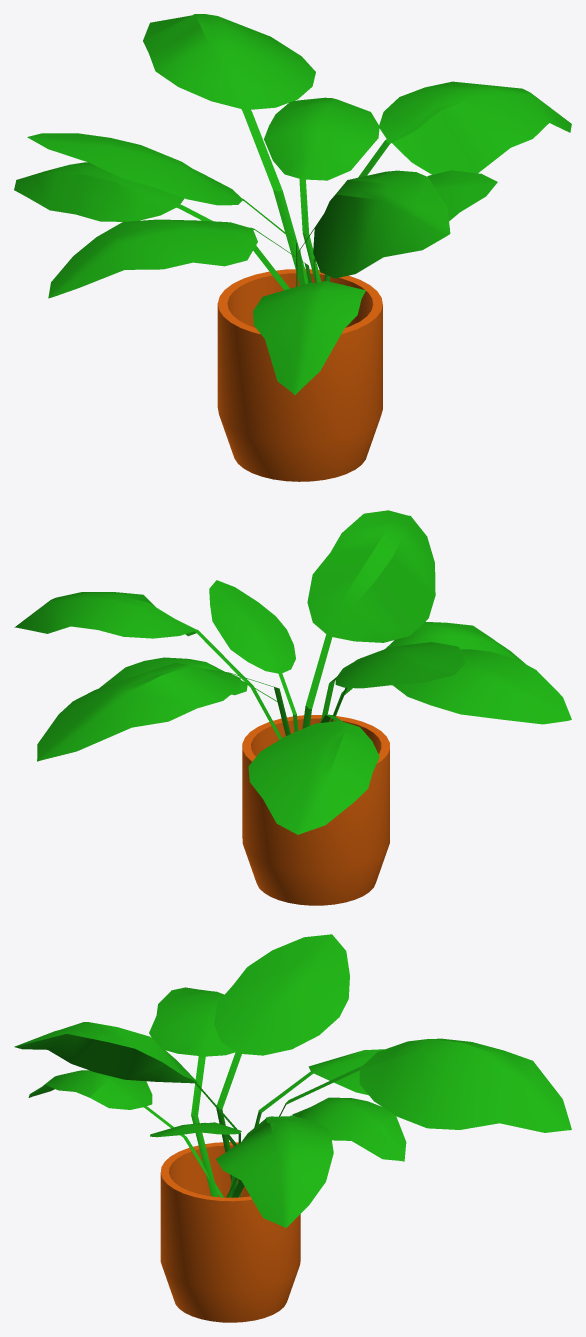
File: flower.gltf
The picture shows the model from 3 angles, top to bottom: view 1: azimuth 30°, elevation 25°; view 2: azimuth 150°, elevation 25°; view 3: azimuth 270°, elevation 25°; orthographic projection. The views are drawn at different scales.
Visible parts, largest first — view 1: Cylinder; view 2: Cylinder; view 3: Cylinder.
Boxes of the visible parts, x1,y1,x2,y2 form: Cylinder: [14, 14, 571, 481]; Cylinder: [14, 510, 571, 905]; Cylinder: [14, 934, 571, 1322].
Size of the model in its own units: 1.7 by 0.946 by 1.69.
